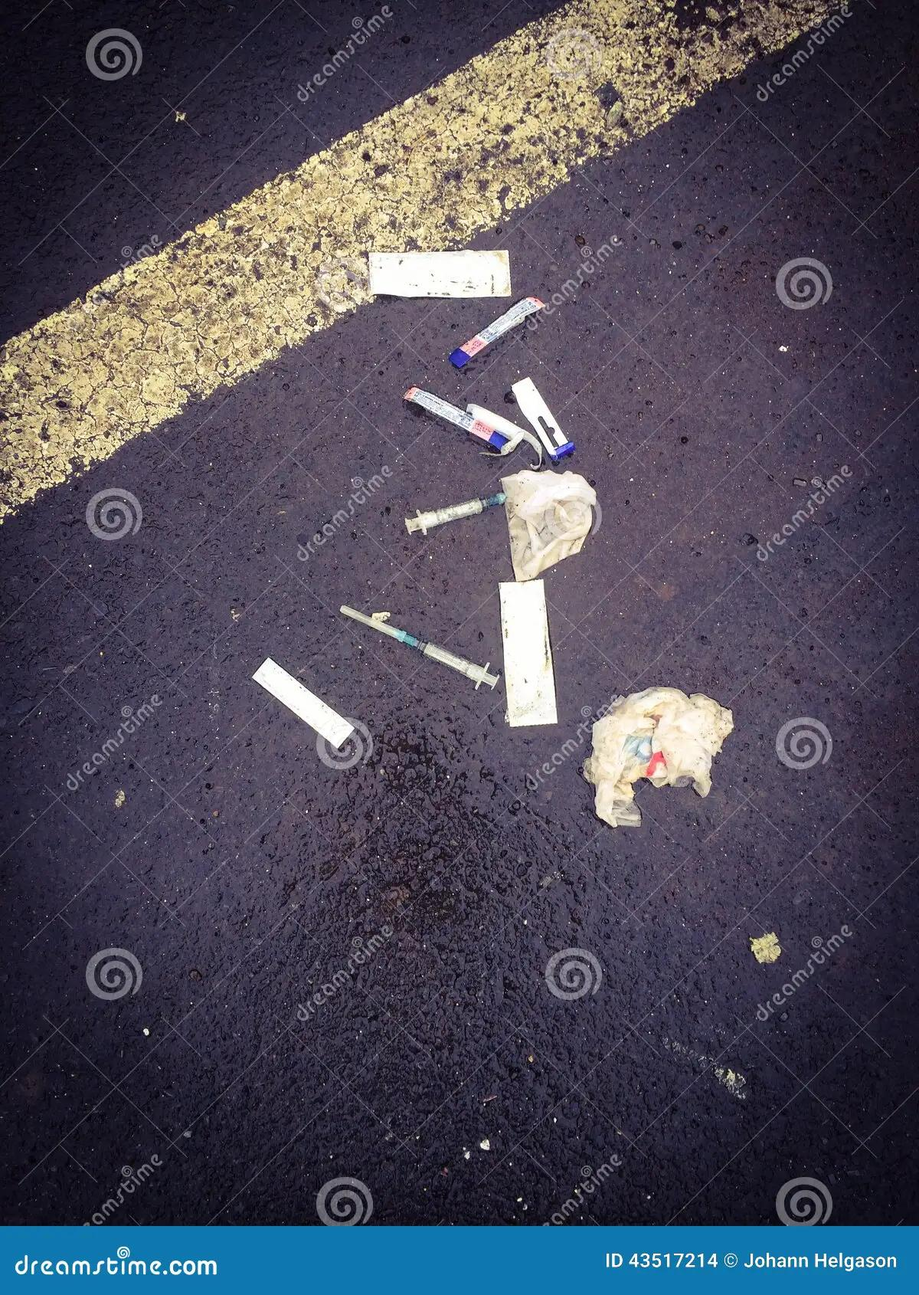Syringe: (340, 605, 498, 689), (404, 492, 505, 533)
